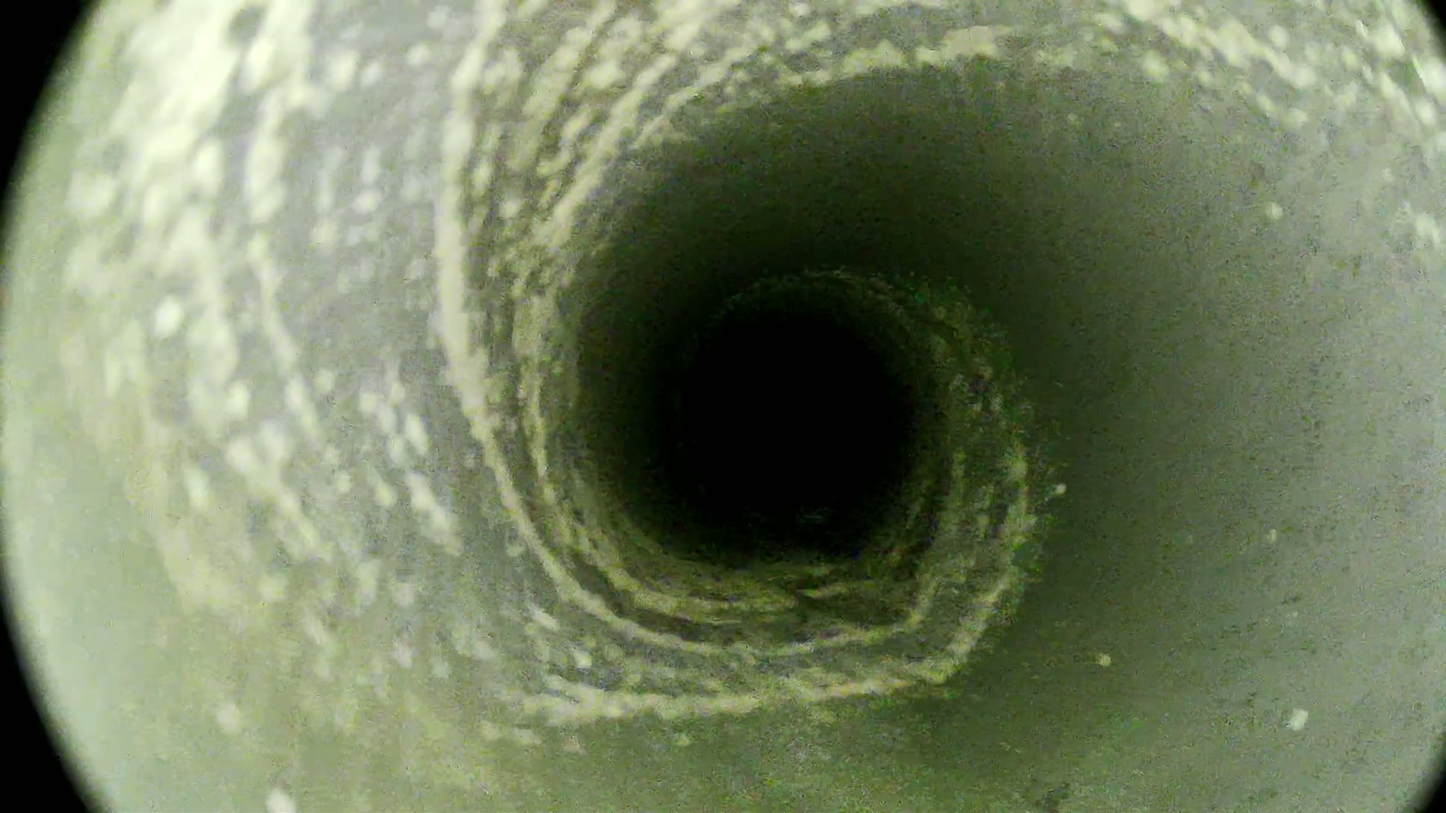hole: (688, 315, 887, 506)
